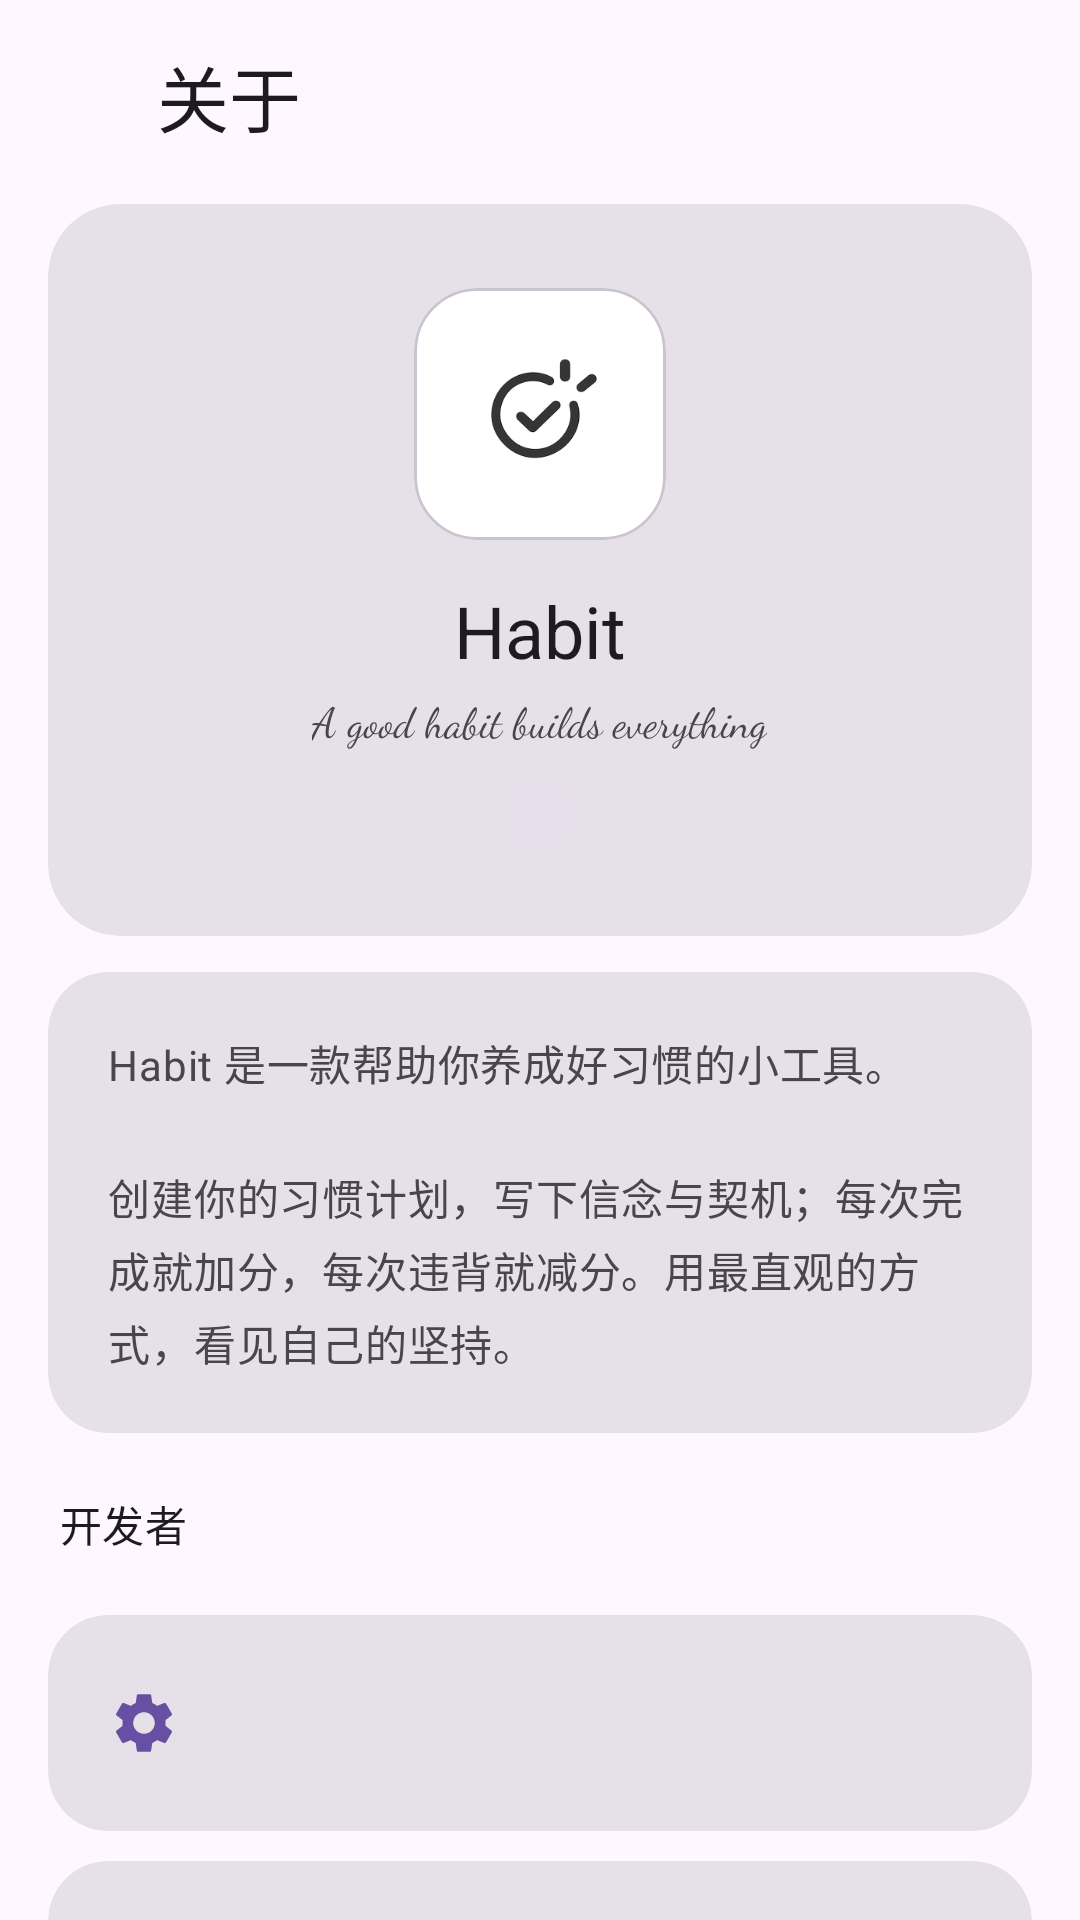

Screen size 1080px x 1920px. Icon name, then its center in pixels as (x=x, y=y):
settings: (x=144, y=1723)
